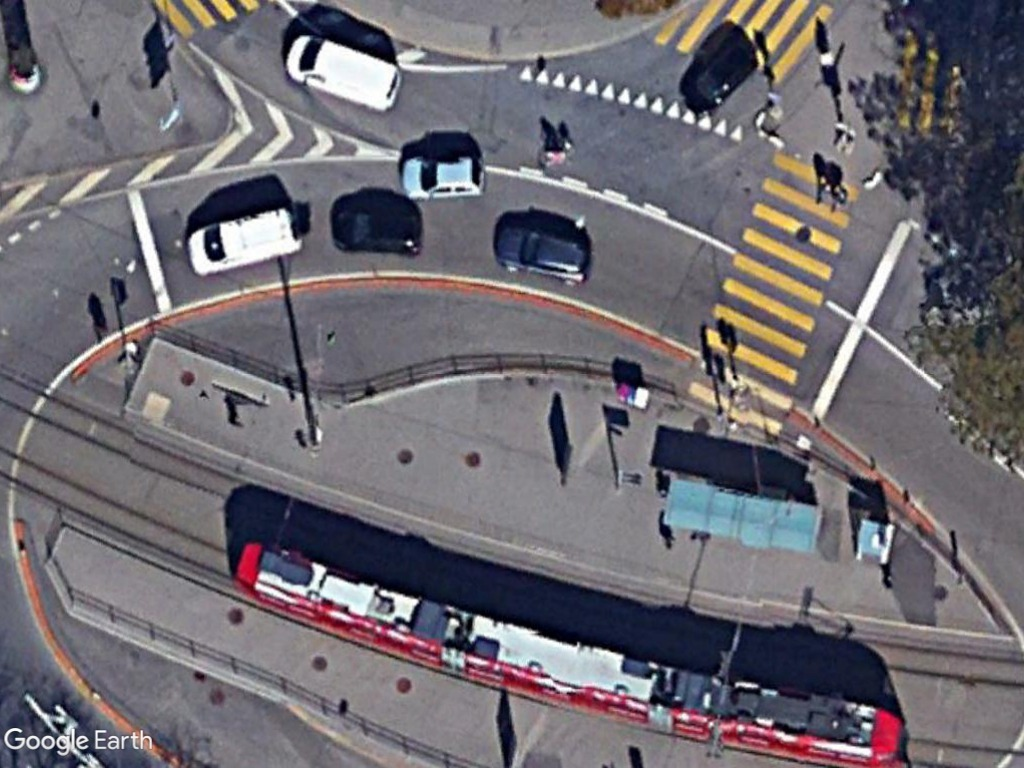car: (491, 221, 601, 285), (398, 152, 487, 201)
van: (284, 36, 405, 110), (184, 204, 304, 277)
